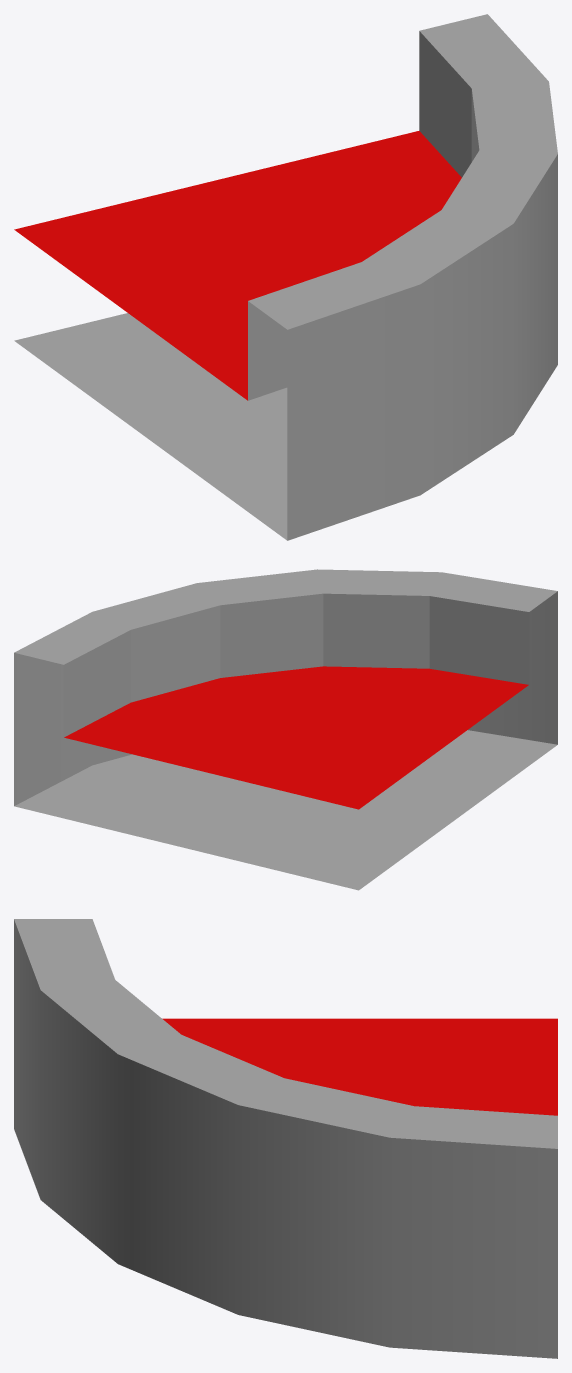
Rendered from EN_P_DamCorner_01_19G4_01_19.fbx.
The picture shows the model from 3 angles, top to bottom: view 1: azimuth 30°, elevation 25°; view 2: azimuth 150°, elevation 25°; view 3: azimuth 270°, elevation 25°; orthographic projection. The views are drawn at different scales.
Visible parts, largest first — view 1: pCylinder1; view 2: pCylinder1; view 3: pCylinder1.
Boxes of the visible parts, <box> form: pCylinder1: <box>14,14,557,540</box>; pCylinder1: <box>14,569,557,890</box>; pCylinder1: <box>14,919,557,1358</box>.
Size of the model in its own units: 195 by 82.81 by 195.
